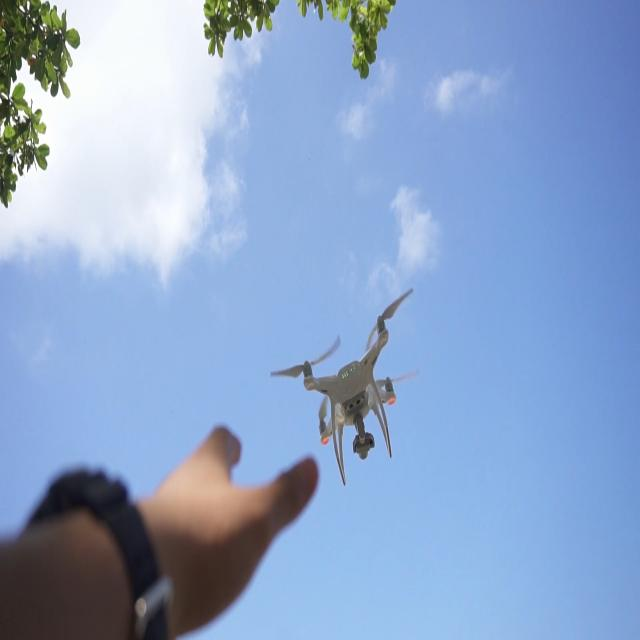Drone: (265, 302, 410, 475)
